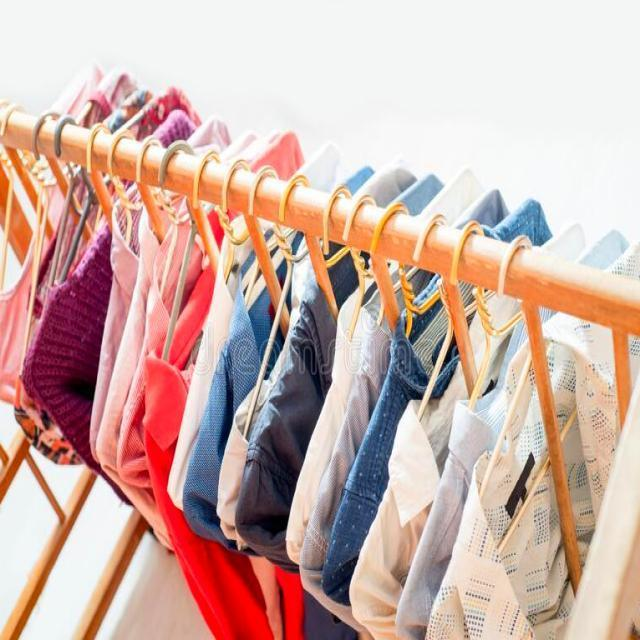clothes: (10, 255, 588, 640)
